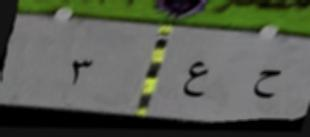3: (57, 50, 103, 95)
7aa: (245, 62, 286, 103)
ain: (176, 54, 213, 107)
